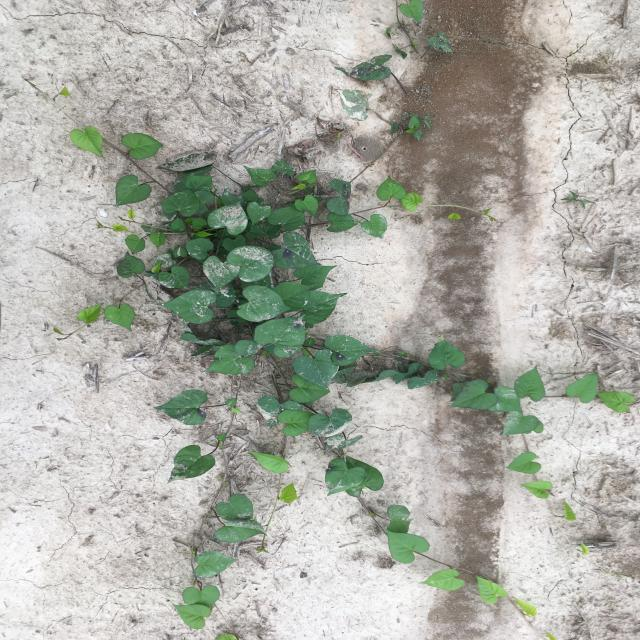MorningGlory: (53, 0, 637, 640)
